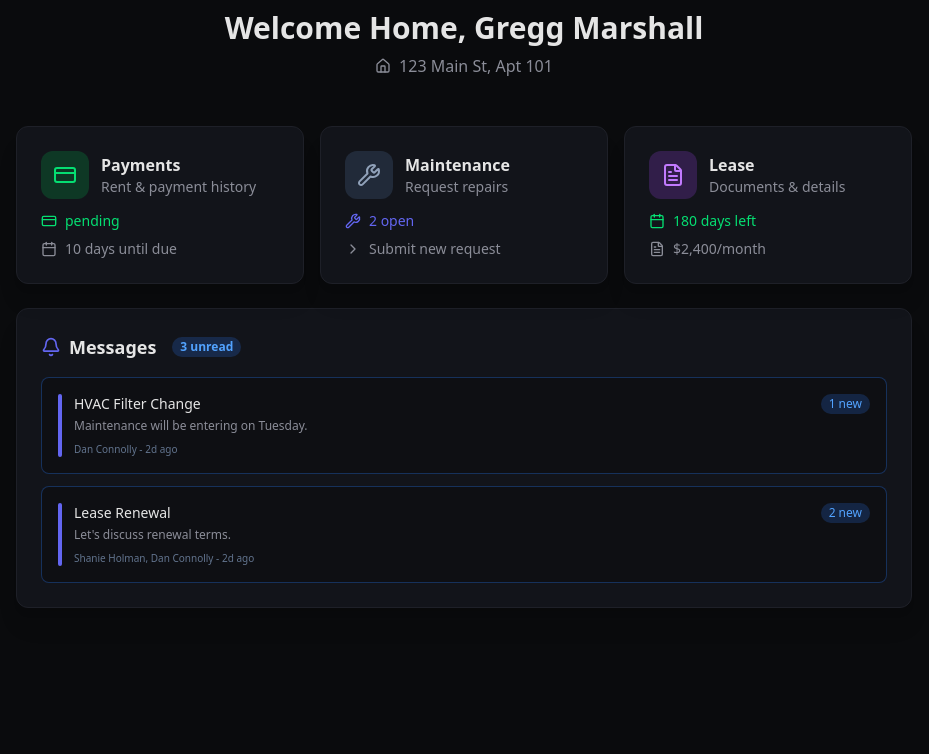
Test: TenantDashboard › Card Interactions › should expand maintenance card when clicked
Click the button "Maintenance Request repairs 2 open Submit new request" at (369, 175), box [320,126,608,284]
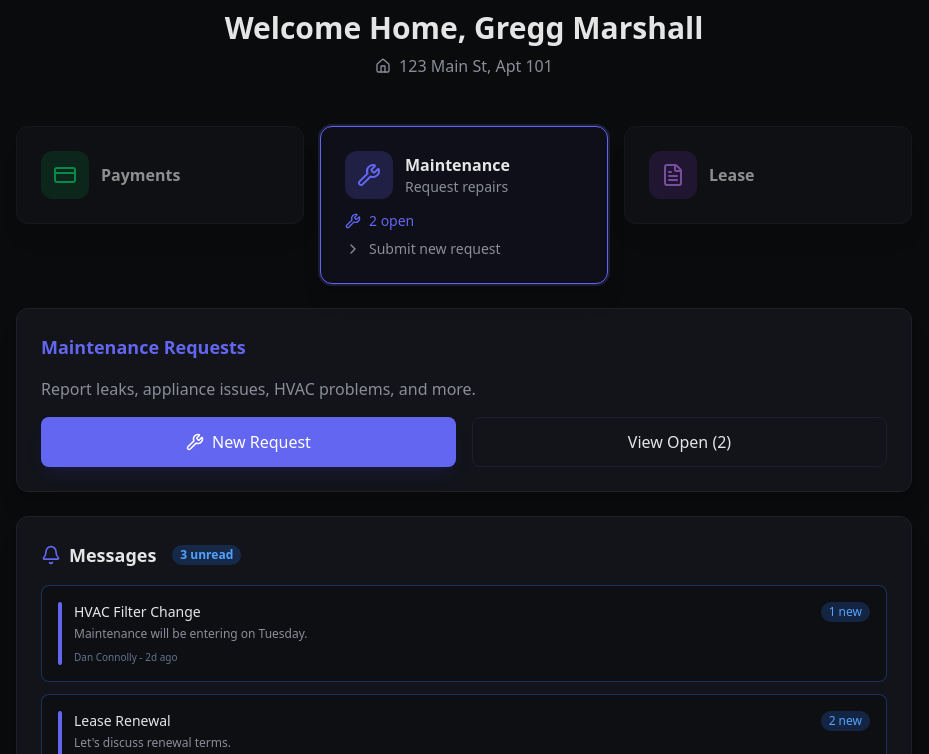
Check: the heading "Maintenance Requests" is shown, box [41,335,246,359]
